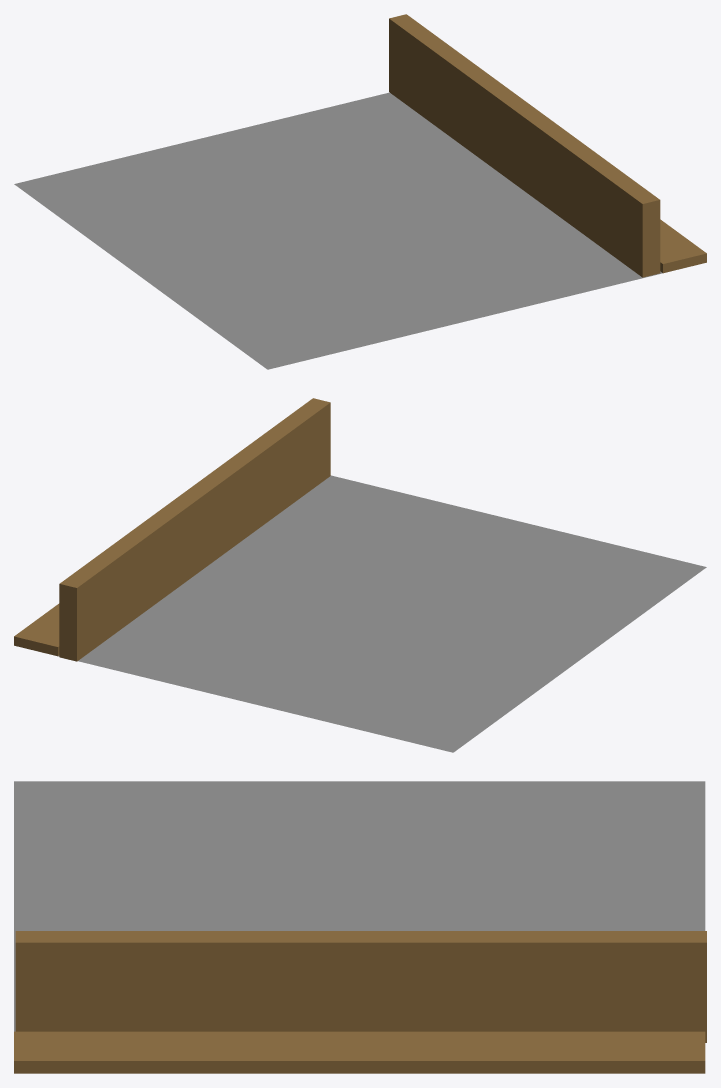
The model's file is rakel.fbx.
3 views of the same model, one above another, from view 1: azimuth 30°, elevation 25°; view 2: azimuth 150°, elevation 25°; view 3: azimuth 270°, elevation 25° (orthographic). The views are drawn at different scales.
Parts seen in each view (by area): view 1: Plane, Handle, HandlePlane; view 2: Plane, Handle, HandlePlane; view 3: Plane, Handle, HandlePlane.
Part boxes in pixels (x1,y1,x2,y2): Plane: (14, 92, 662, 369); Handle: (389, 14, 660, 277); HandlePlane: (660, 219, 706, 273); Plane: (58, 475, 706, 752); Handle: (59, 398, 330, 661); HandlePlane: (14, 603, 59, 656); Plane: (14, 781, 705, 1031); Handle: (15, 931, 706, 1042); HandlePlane: (14, 1031, 705, 1073).
Bounding box in the file's own units: 100 × 16 × 100.
